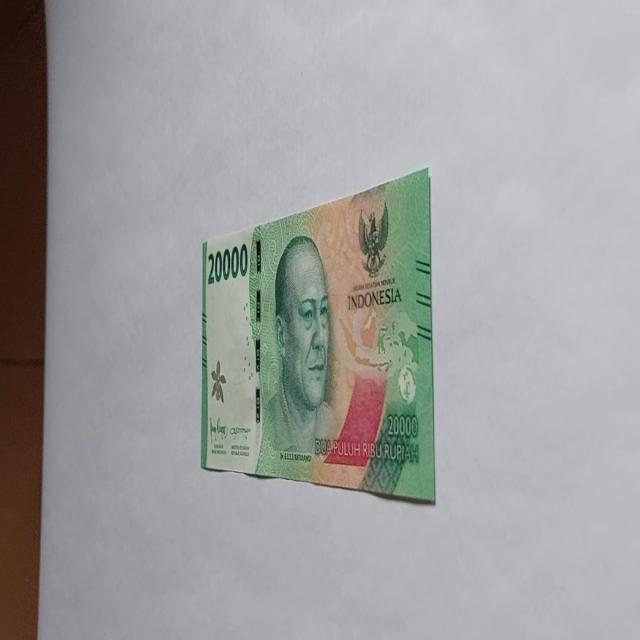dua puluh ribu rupiah: (200, 165, 436, 505), (255, 232, 343, 482)
